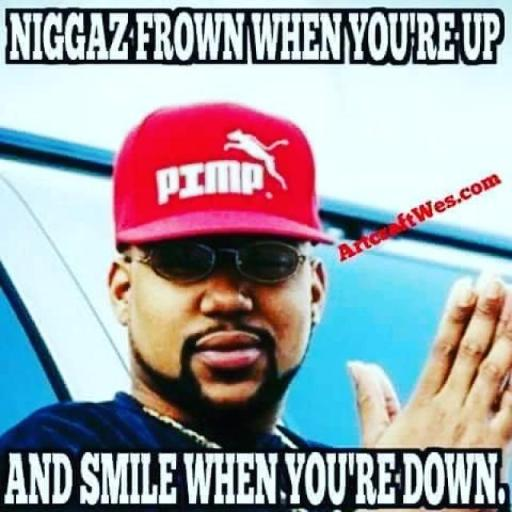Puma: (222, 126, 290, 190)
